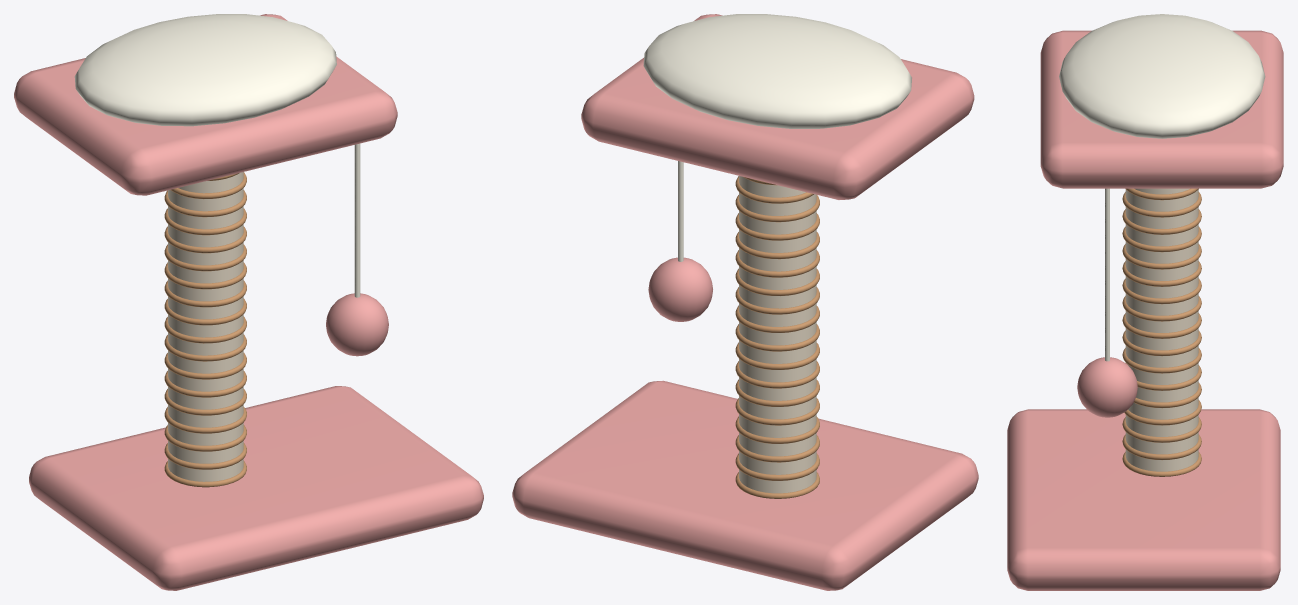
The model's file is catTreePink.glb.
The picture shows the model from 3 angles, left to right: view 1: azimuth 30°, elevation 25°; view 2: azimuth 150°, elevation 25°; view 3: azimuth 270°, elevation 25°; orthographic projection. The views are drawn at different scales.
Parts seen in each view (by area): view 1: Cat tree base, Upper perch, Cushion, Sisal post, Dangling toy, Hanging toy string, Rope ring.004, Rope ring.005, Rope ring.007, Rope ring.010, Rope ring.003, Rope ring.006 (+9 smaller); view 2: Cat tree base, Upper perch, Cushion, Sisal post, Dangling toy, Rope ring.012, Rope ring.014, Rope ring.010, Rope ring.006, Rope ring.008, Rope ring.002, Rope ring.004 (+10 smaller); view 3: Cat tree base, Cushion, Upper perch, Sisal post, Dangling toy, Hanging toy string, Rope ring.006, Rope ring.009, Rope ring.012, Rope ring.015, Rope ring.002, Rope ring.011 (+11 smaller).
Boxes of the visible parts, x1,y1,x2,y2 form: Cat tree base: (29,386,483,590); Upper perch: (14,14,397,195); Cushion: (74,14,336,126); Sisal post: (168,172,243,481); Dangling toy: (326,293,388,356); Hanging toy string: (354,143,360,297); Rope ring.004: (164,389,246,415); Rope ring.005: (164,371,246,397); Rope ring.007: (164,334,246,361); Rope ring.010: (164,280,246,307); Rope ring.003: (164,407,246,433); Rope ring.006: (164,353,246,379); Cat tree base: (512,380,978,590); Upper perch: (581,14,974,199); Cushion: (643,14,911,128); Sisal post: (739,176,816,493); Dangling toy: (648,257,712,321); Rope ring.012: (735,250,819,277); Rope ring.014: (735,213,819,240); Rope ring.010: (735,287,819,314); Rope ring.006: (735,361,819,388); Rope ring.008: (735,324,819,351); Rope ring.002: (735,435,819,462); Rope ring.004: (735,398,819,425); Cat tree base: (1007,409,1280,590); Cushion: (1059,14,1265,138); Upper perch: (1040,30,1283,188); Sisal post: (1125,188,1198,471); Dangling toy: (1077,357,1137,417); Hanging toy string: (1105,188,1109,361); Rope ring.006: (1122,348,1201,373); Rope ring.009: (1122,296,1201,321); Rope ring.012: (1122,244,1201,269); Rope ring.015: (1122,192,1201,217); Rope ring.002: (1122,417,1201,442); Rope ring.011: (1122,261,1201,286).
Bounding box in the file's own units: 1.25 × 1.64 × 0.91.
